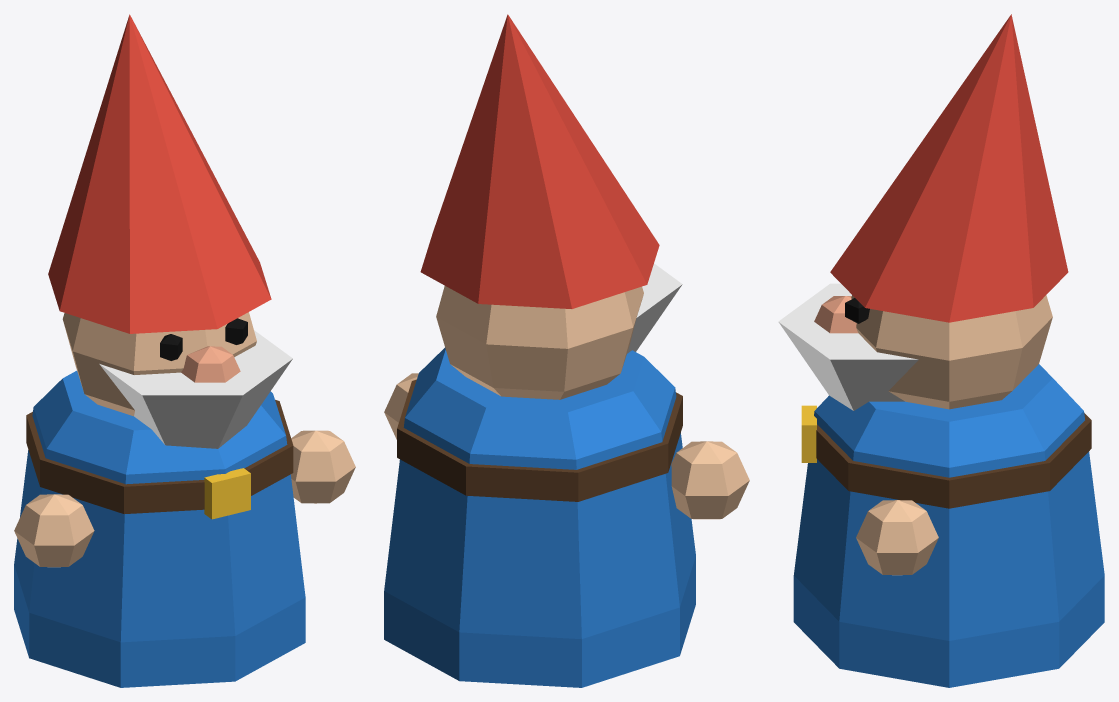
File: gartenzwerg.glb
3 views of the same model, side by side, from view 1: azimuth 30°, elevation 25°; view 2: azimuth 150°, elevation 25°; view 3: azimuth 270°, elevation 25° (orthographic). The views are drawn at different scales.
Visible parts, largest first — view 1: zwerg; view 2: zwerg; view 3: zwerg.
Boxes of the visible parts, x1,y1,x2,y2 form: zwerg: [14, 14, 355, 687]; zwerg: [384, 14, 749, 687]; zwerg: [778, 14, 1104, 687].
Bounding box in the file's own units: 0.7386 × 1.29 × 0.63.
